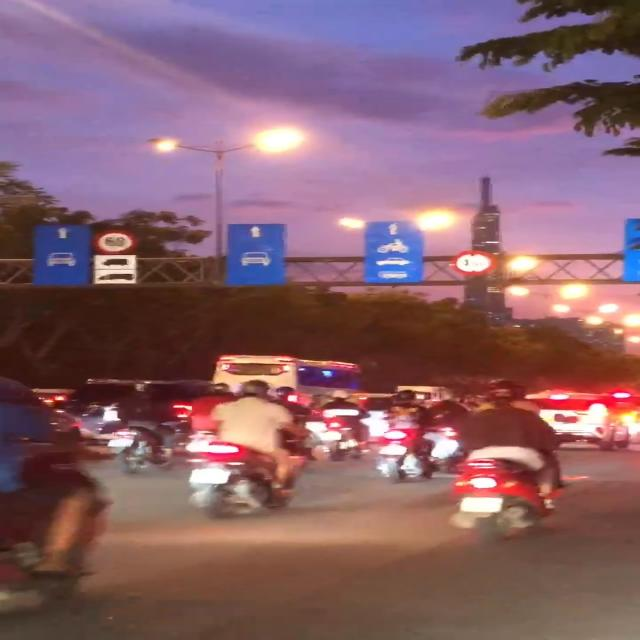Bien bao han che chieu cao: (445, 244, 504, 276)
Bien bao toc do toi da cho phep: (89, 226, 138, 253)
